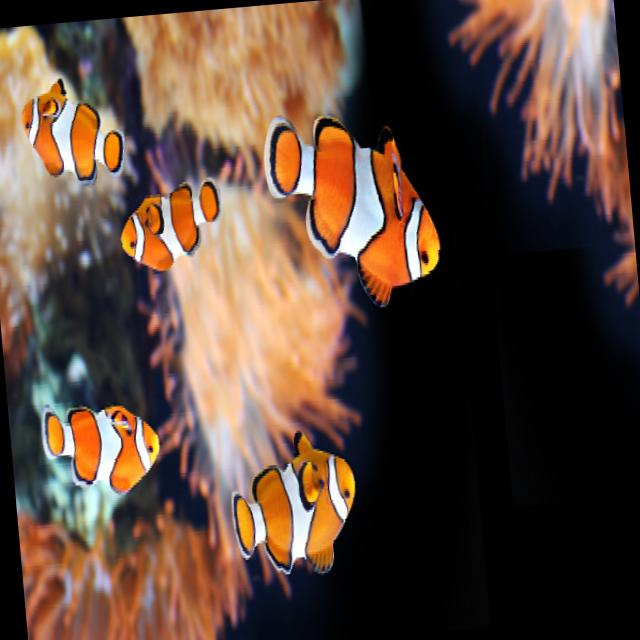ClownFish: (258, 99, 442, 318), (224, 424, 362, 584), (38, 394, 164, 504), (17, 68, 126, 192), (114, 175, 223, 274)
